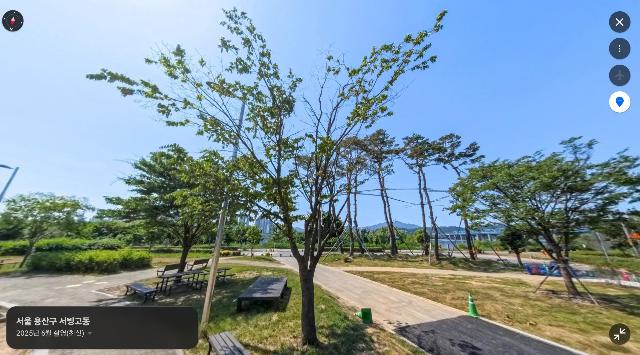other: (85, 6, 450, 347), (440, 134, 640, 301), (96, 140, 263, 279), (332, 128, 400, 257), (0, 191, 98, 271), (426, 132, 487, 259), (395, 131, 455, 260), (493, 215, 532, 268), (243, 213, 264, 257)
